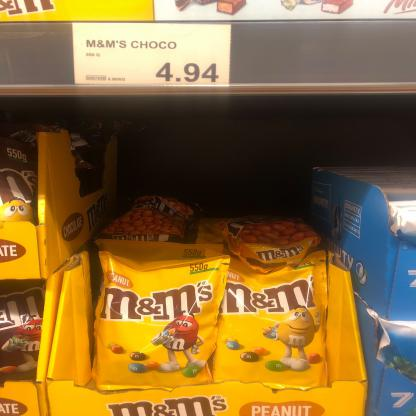prtg: (74, 23, 233, 88)
